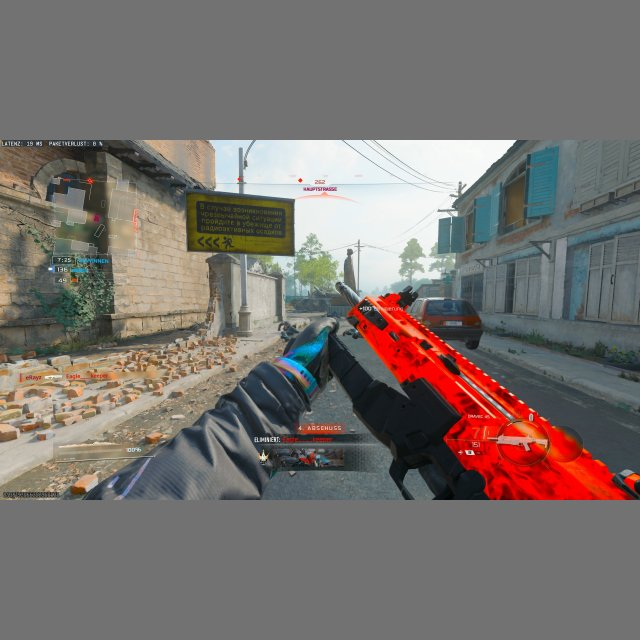player: (277, 321, 306, 353)
